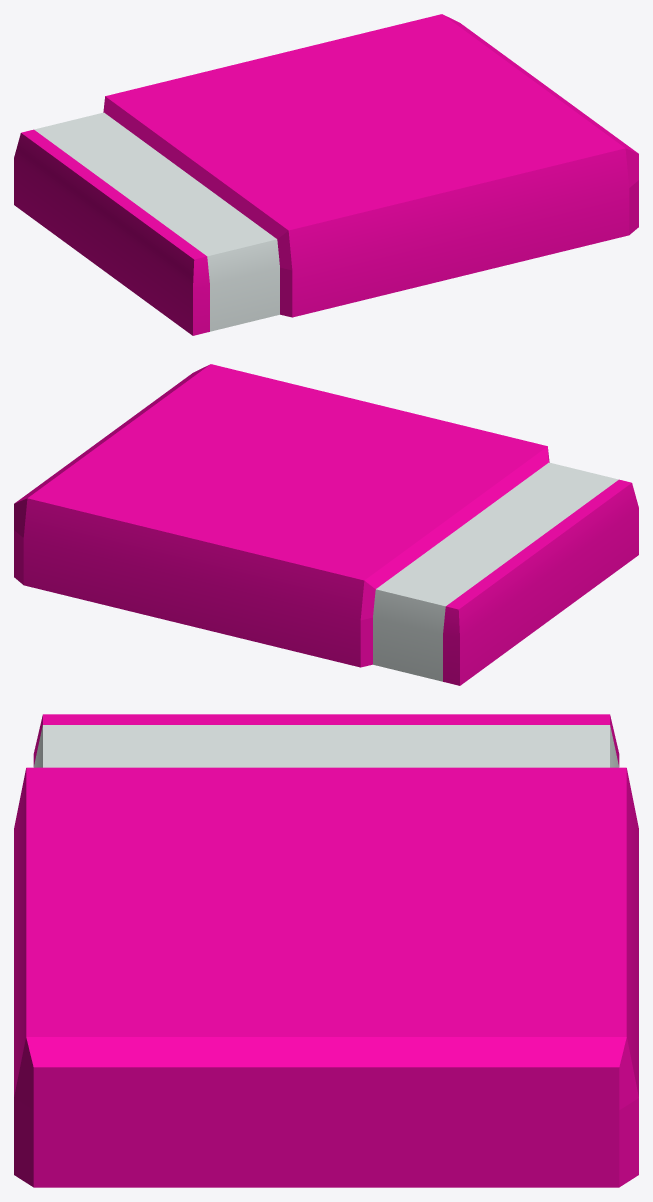
File: bed_king.fbx
3 views of the same model, one above another, from view 1: azimuth 30°, elevation 25°; view 2: azimuth 150°, elevation 25°; view 3: azimuth 270°, elevation 25° (orthographic). The views are drawn at different scales.
Parts seen in each view (by area): view 1: pCube2; view 2: pCube2; view 3: pCube2.
Part boxes in pixels (bbox=[...]): pCube2: bbox=[14, 14, 638, 335]; pCube2: bbox=[14, 364, 638, 685]; pCube2: bbox=[14, 714, 638, 1187].
Bounding box in the file's own units: 6.37 × 1.15 × 4.72.
